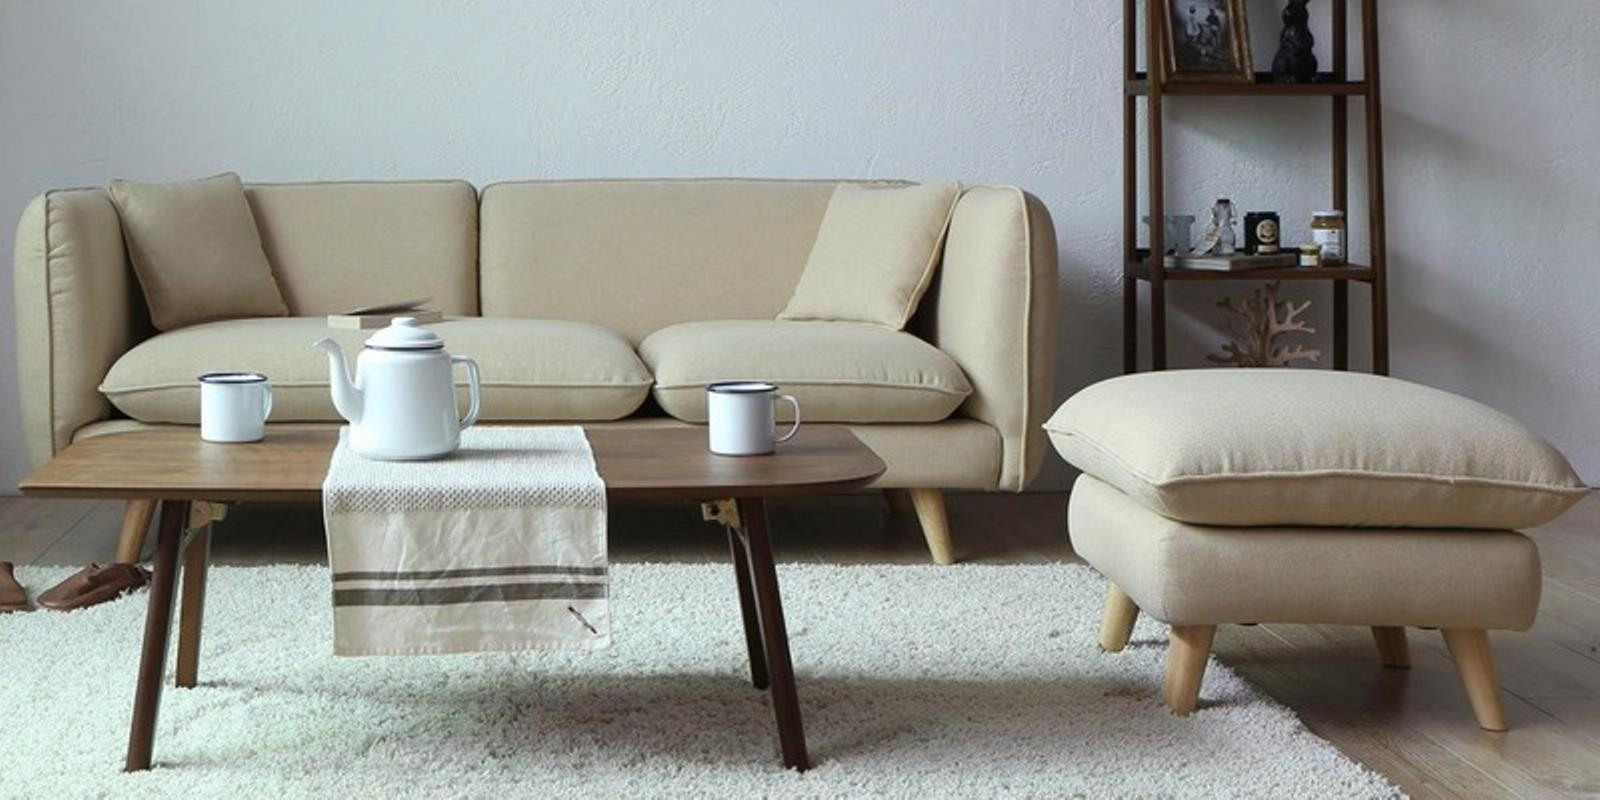Gloria Three Seater Sofa with Ottoman in Beige Colour by CasaCraft: (8, 160, 1055, 585), (1044, 356, 1592, 760)
